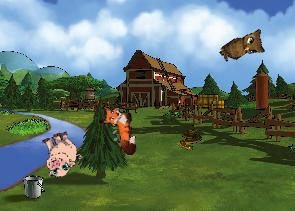fox: (97, 102, 138, 157)
owl: (217, 24, 271, 73)
pig: (34, 127, 85, 180)
